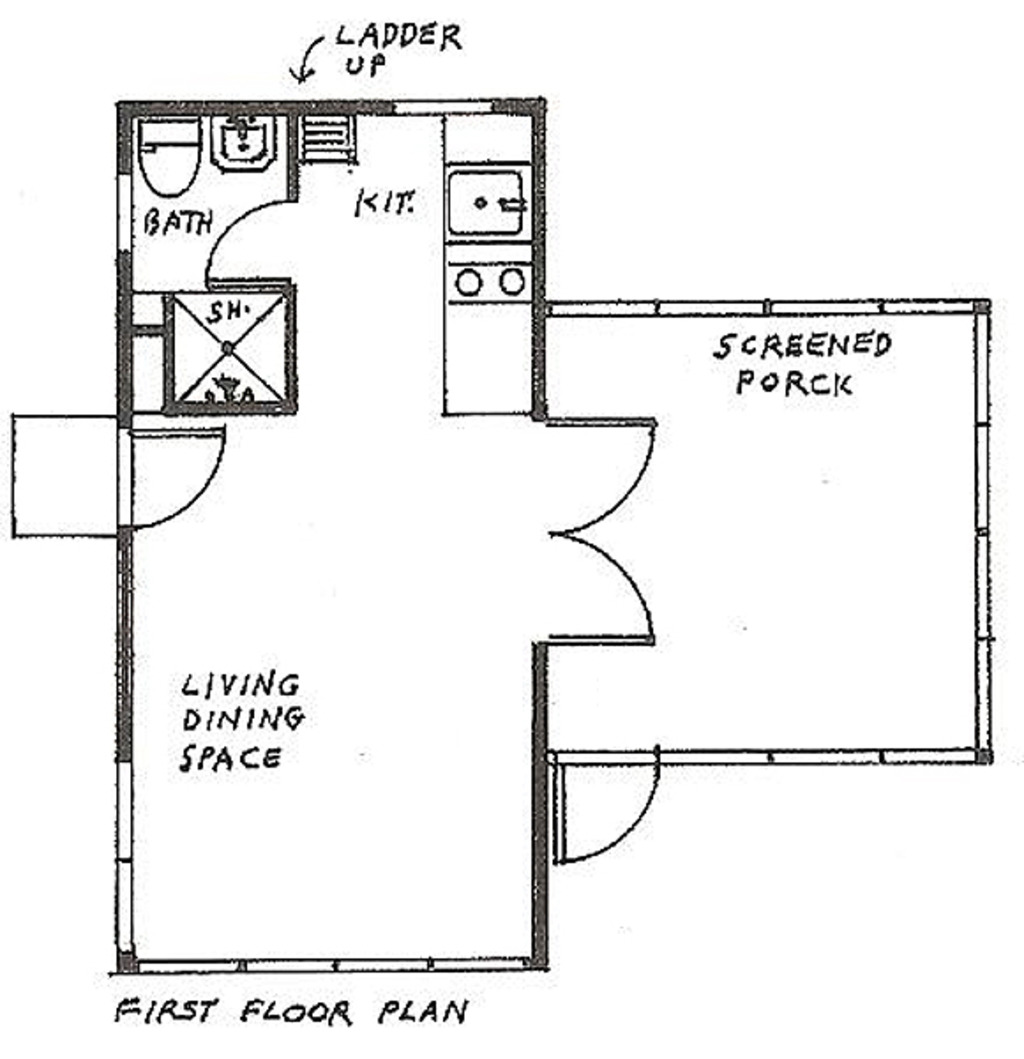door: (528, 405, 681, 645), (551, 753, 672, 871), (123, 419, 233, 545), (184, 190, 296, 295)
large_sink: (138, 116, 210, 201)
small_sink: (218, 119, 286, 172)
window: (117, 171, 136, 247), (394, 100, 481, 111)
